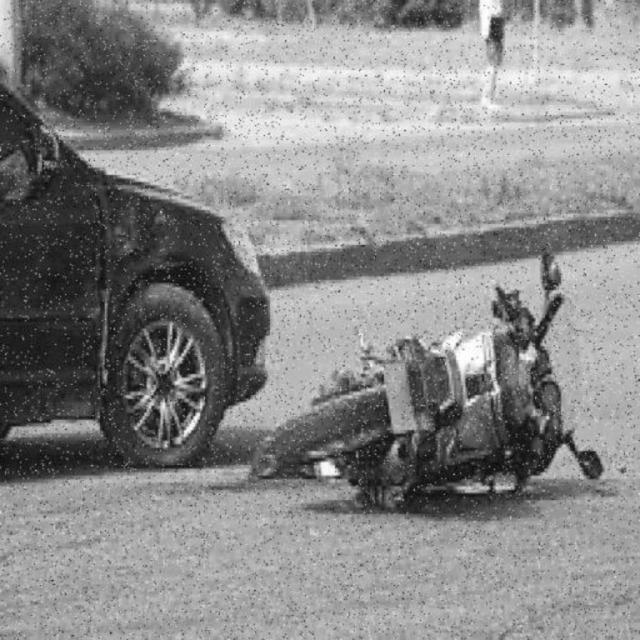vehicle: (2, 98, 260, 465), (263, 267, 600, 515)
